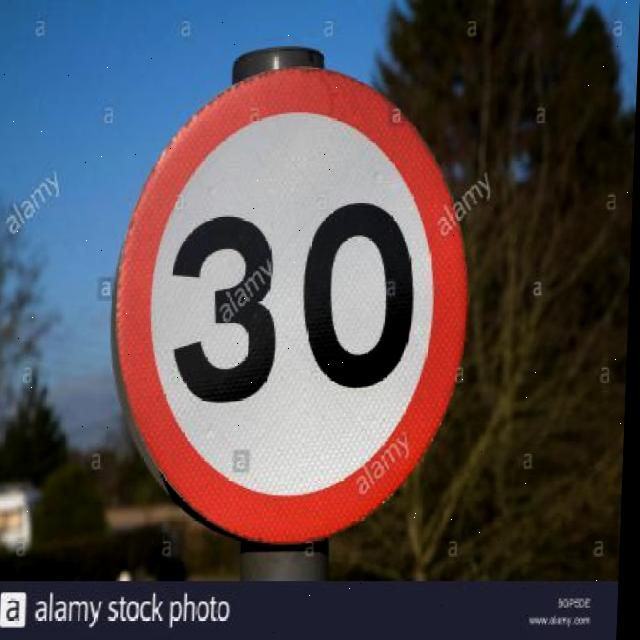Speed limit 30: (105, 60, 482, 549)
